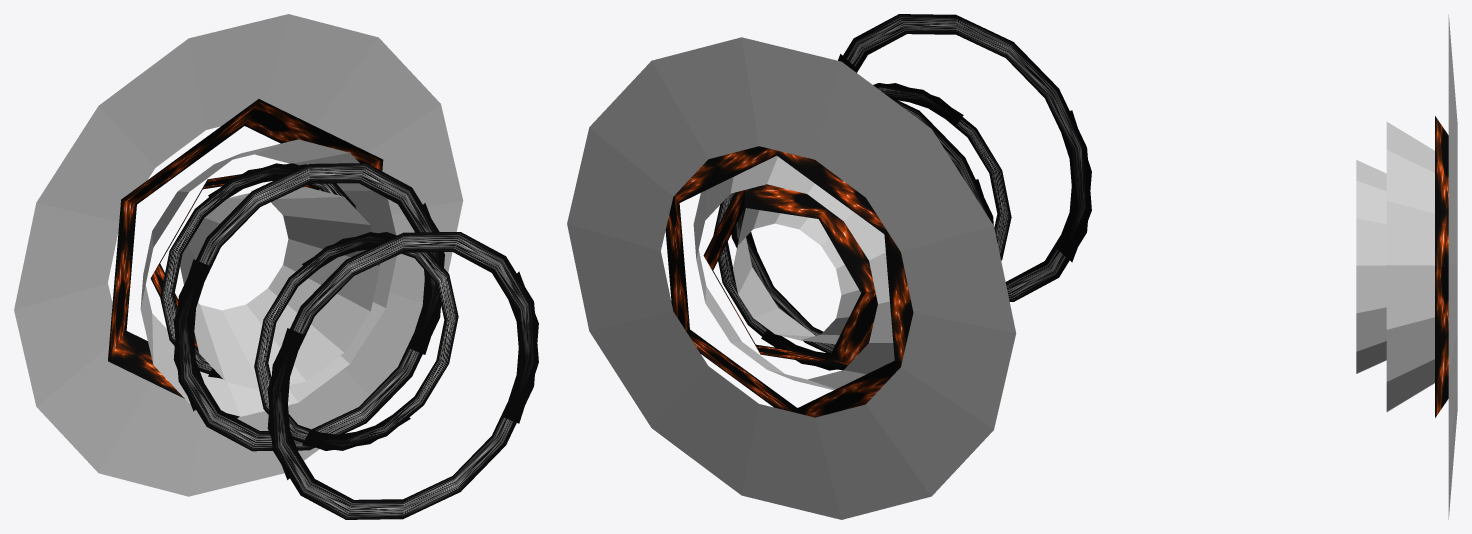
File: tx_boss_shenshengzhuoshao_fire_01.obj
3 renders of one model, left to right at view 1: azimuth 30°, elevation 25°; view 2: azimuth 150°, elevation 25°; view 3: azimuth 270°, elevation 25°, orthographic.
Visible parts, largest first — view 1: Cylinder06, Cylinder10, Cylinder09, Cylinder05, Plane04, Plane03, Plane07, Plane08, Plane06, Plane05, Plane09, Cylinder04; view 2: Cylinder06, Cylinder05, Cylinder09, Plane03, Cylinder04, Cylinder10, Plane05, Plane04, Plane08, Plane10, Plane07, Plane06 (+1 smaller); view 3: Cylinder09, Cylinder10, Cylinder06, Cylinder05.
Part boxes in pixels (x1,y1,x2,y2): Cylinder06: [14, 14, 463, 496]; Cylinder10: [180, 187, 379, 390]; Cylinder09: [140, 139, 396, 416]; Cylinder05: [108, 99, 383, 418]; Plane04: [267, 271, 538, 519]; Plane03: [267, 232, 538, 479]; Plane07: [173, 163, 442, 411]; Plane08: [174, 203, 444, 451]; Plane06: [302, 232, 458, 450]; Plane05: [254, 232, 410, 450]; Plane09: [160, 163, 302, 378]; Cylinder04: [150, 164, 319, 348]; Cylinder06: [567, 37, 1016, 519]; Cylinder05: [665, 146, 913, 417]; Cylinder09: [693, 155, 894, 390]; Plane03: [843, 14, 1091, 262]; Cylinder04: [703, 184, 877, 367]; Cylinder10: [733, 208, 860, 344]; Plane05: [887, 83, 1011, 260]; Plane04: [838, 54, 1091, 301]; Plane08: [731, 179, 997, 353]; Plane10: [713, 192, 836, 370]; Plane07: [749, 95, 993, 250]; Plane06: [873, 83, 963, 125]; Cylinder09: [1386, 122, 1434, 411]; Cylinder10: [1356, 160, 1386, 373]; Cylinder06: [1448, 14, 1457, 519]; Cylinder05: [1435, 116, 1448, 417].
Bounding box in the file's own units: 110 × 108 × 72.05.
